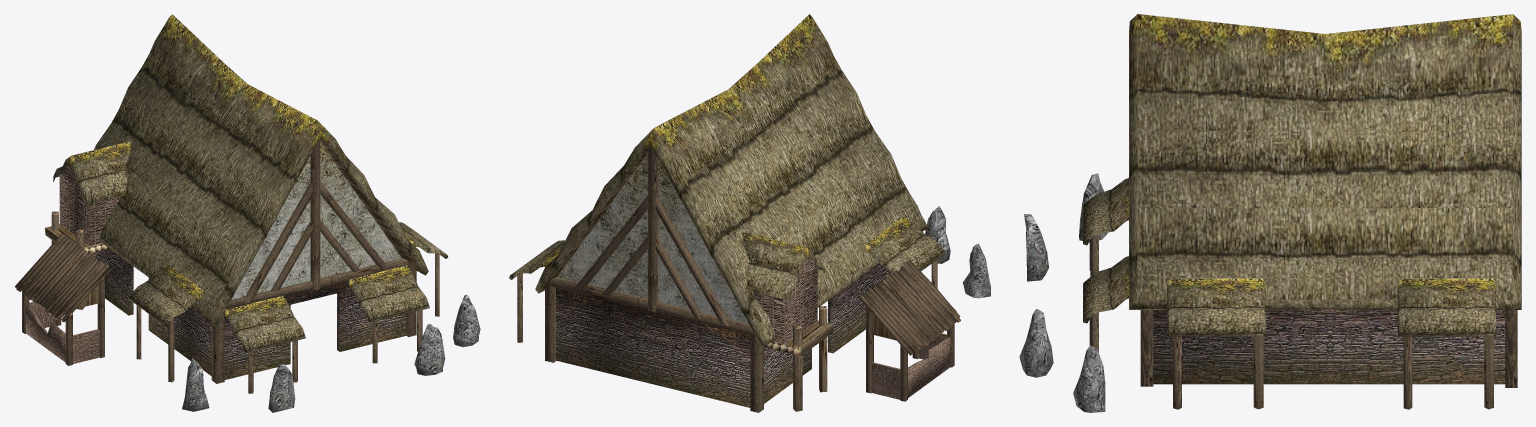
File: celt_civic3.dae
3 views of the same model, side by side, from view 1: azimuth 30°, elevation 25°; view 2: azimuth 150°, elevation 25°; view 3: azimuth 270°, elevation 25° (orthographic). The views are drawn at different scales.
Visible parts, largest first — view 1: new_Civic_Centre; view 2: new_Civic_Centre; view 3: new_Civic_Centre.
Part boxes in pixels (left/top/right/bottom): new_Civic_Centre: left=14, top=14, right=480, bottom=412; new_Civic_Centre: left=509, top=14, right=990, bottom=412; new_Civic_Centre: left=1019, top=14, right=1521, bottom=412.
Size of the model in its own units: 24.42 by 23.82 by 16.3.
